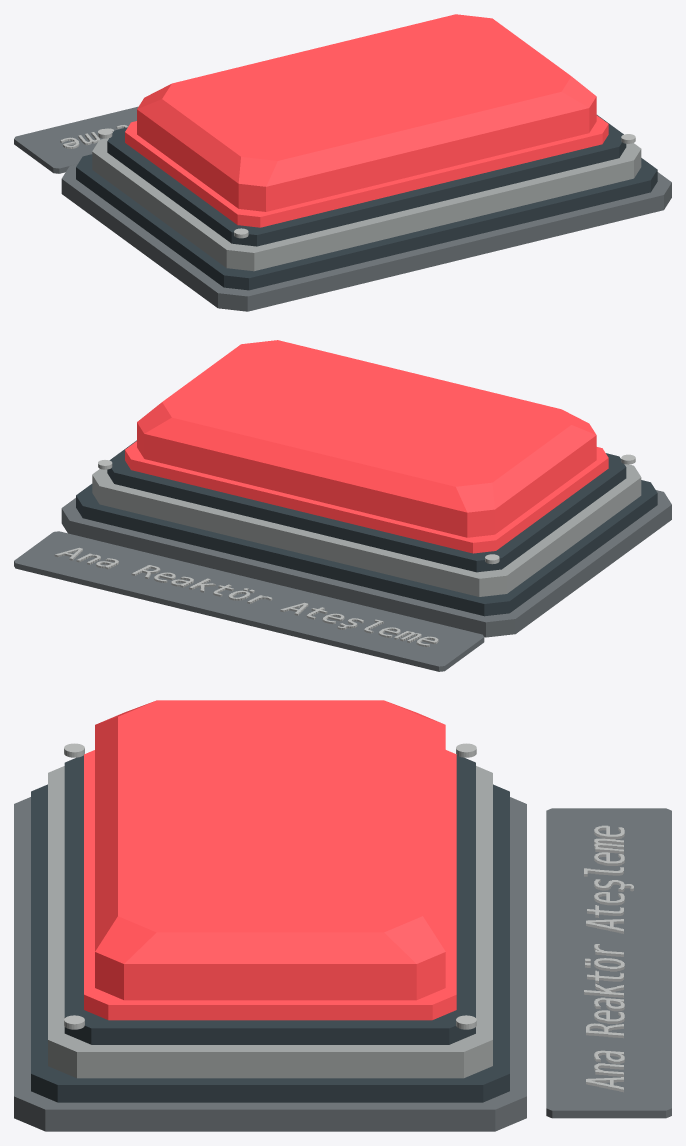
The model's file is ANA_REAKTOR_ATESLEME_DUGMESI_07_ADAY.glb.
3 renders of one model, top to bottom at view 1: azimuth 30°, elevation 25°; view 2: azimuth 150°, elevation 25°; view 3: azimuth 270°, elevation 25°, orthographic. The views are drawn at different scales.
Visible parts, largest first — view 1: MOVING_IGNITION_RED_CAP, Raised_housing_rim, Outer_metal_mount, Lower_black_collared_frame, Inner_black_gasket, Red_button_border, Legend_plate; view 2: MOVING_IGNITION_RED_CAP, Legend_plate, Raised_housing_rim, Outer_metal_mount, Lower_black_collared_frame, Inner_black_gasket, Red_button_border, Reference_ignition_legend; view 3: MOVING_IGNITION_RED_CAP, Legend_plate, Outer_metal_mount, Raised_housing_rim, Lower_black_collared_frame, Inner_black_gasket, Red_button_border, Reference_ignition_legend.
Boxes of the visible parts, x1,y1,x2,y2 form: MOVING_IGNITION_RED_CAP: (137,14,596,211); Raised_housing_rim: (92,138,641,271); Outer_metal_mount: (61,164,671,311); Lower_black_collared_frame: (76,154,657,290); Inner_black_gasket: (107,115,626,246); Red_button_border: (125,115,608,227); Legend_plate: (14,106,138,173); MOVING_IGNITION_RED_CAP: (137,340,596,537); Legend_plate: (14,531,484,671); Raised_housing_rim: (92,464,641,596); Outer_metal_mount: (61,490,671,637); Lower_black_collared_frame: (76,480,657,616); Inner_black_gasket: (107,440,626,572); Red_button_border: (125,441,608,553); Reference_ignition_legend: (54,547,438,646); MOVING_IGNITION_RED_CAP: (95,700,445,1000); Legend_plate: (546,808,671,1118); Outer_metal_mount: (14,797,526,1131); Raised_housing_rim: (48,766,492,1078); Lower_black_collared_frame: (31,784,509,1102); Inner_black_gasket: (64,755,475,1044); Red_button_border: (84,750,456,1020); Reference_ignition_legend: (584,825,633,1092).
Bounding box in the file's own units: 3.12 × 0.71 × 2.72.
